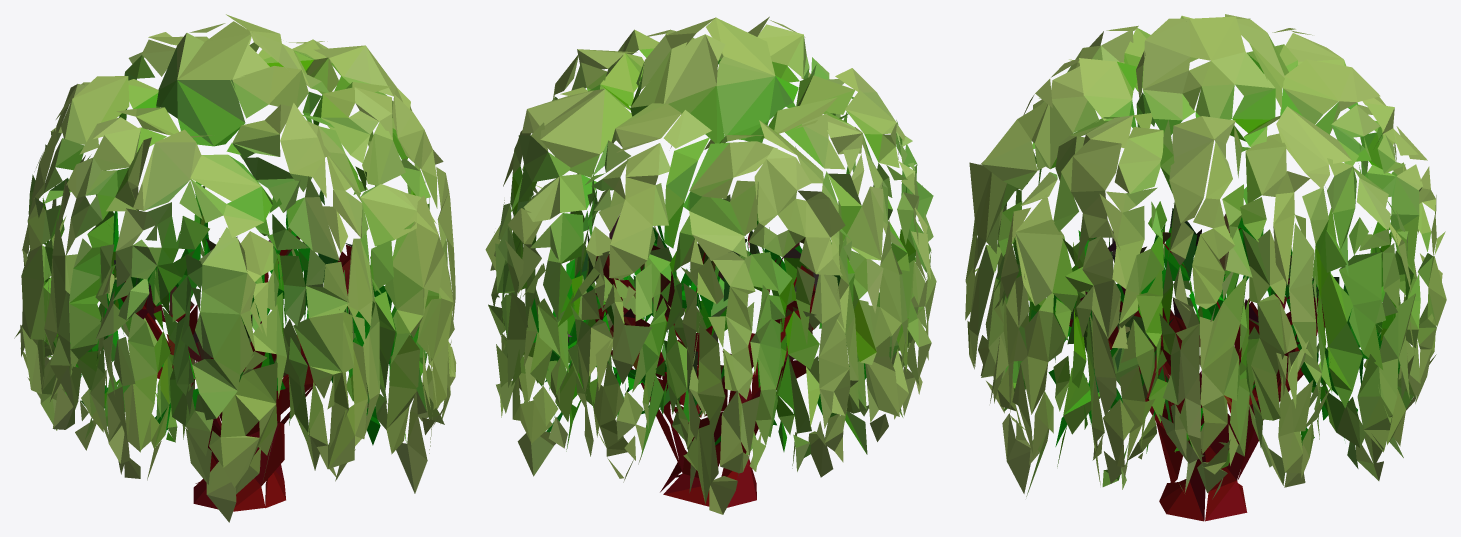
File: tree-willow.glb
3 renders of one model, left to right at view 1: azimuth 30°, elevation 25°; view 2: azimuth 150°, elevation 25°; view 3: azimuth 270°, elevation 25°, orthographic. The views are drawn at different scales.
Visible parts, largest first — view 1: source; view 2: source; view 3: source.
Boxes of the visible parts, bbox=[...] form: source: bbox=[14, 14, 456, 522]; source: bbox=[485, 16, 936, 514]; source: bbox=[965, 14, 1446, 521].
Size of the model in its own units: 1.71 by 2.01 by 1.8.
